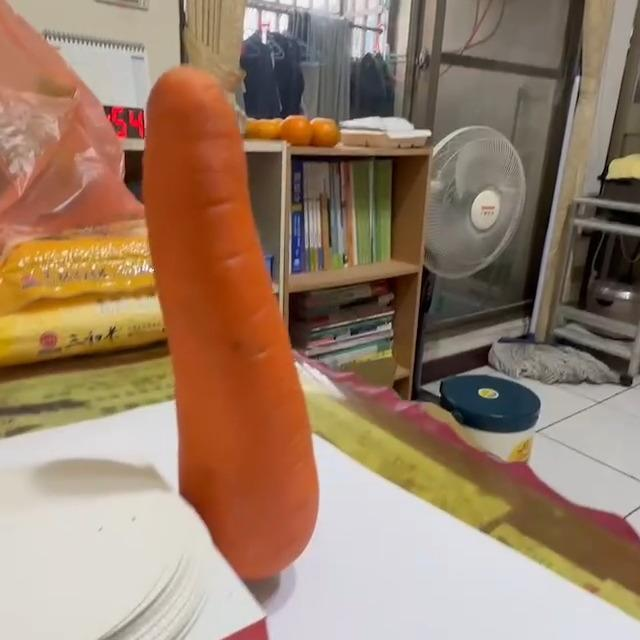carrot: (142, 69, 324, 586)
